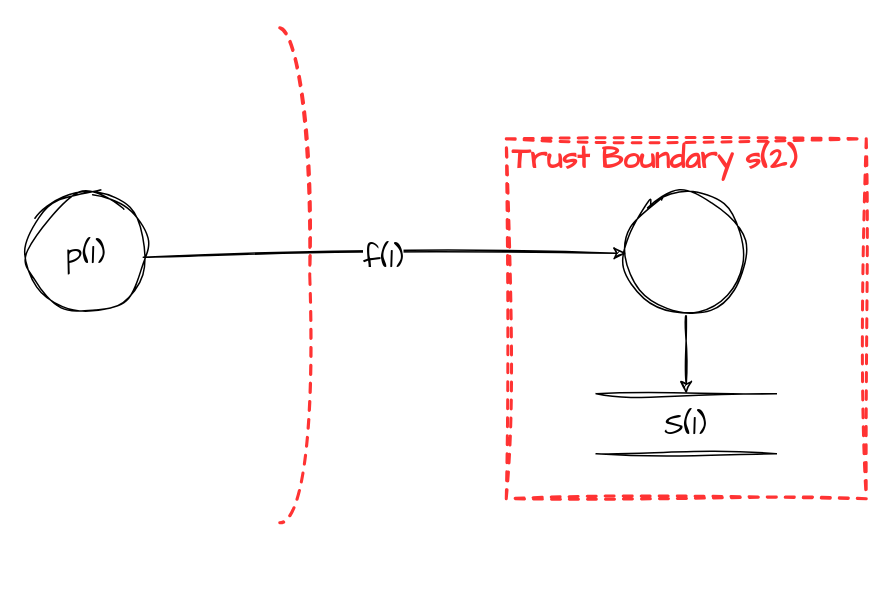
This 894x596 diagram has some shape labels left out. Each missing label, with the centre of its shape:
"Internet Trust Boundary" goes at point (294, 275).
"p(2)" goes at point (685, 252).
